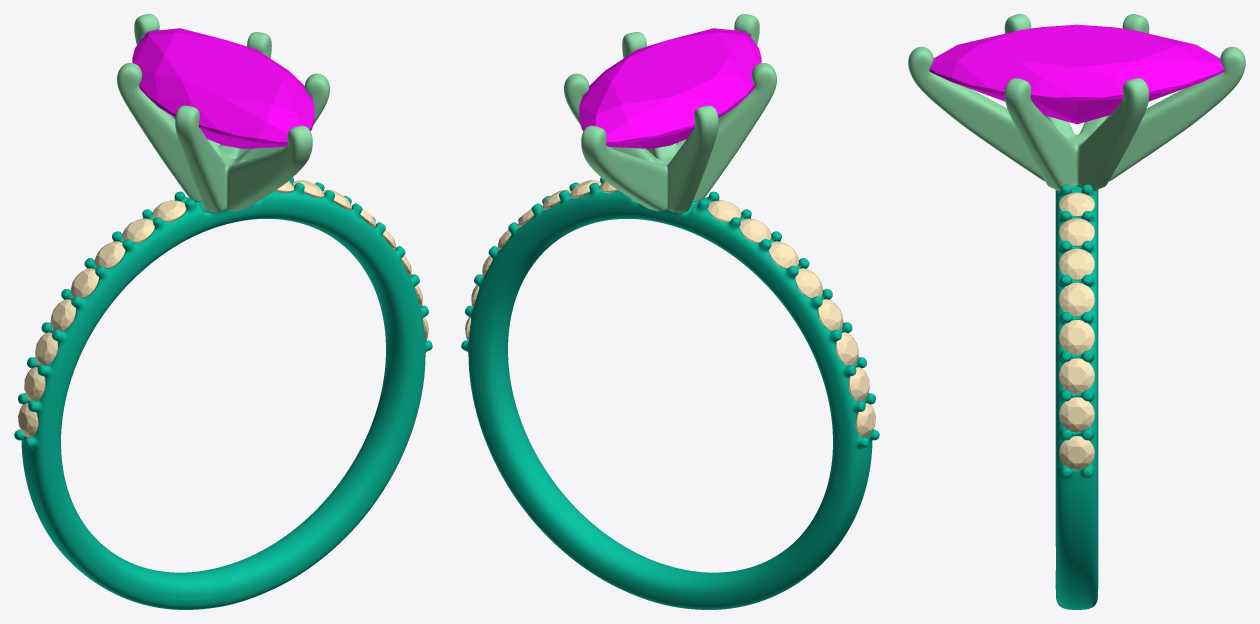
The model's file is BE1PD25R25_MQ_200ct_RENDER.glb.
3 renders of one model, left to right at view 1: azimuth 30°, elevation 25°; view 2: azimuth 150°, elevation 25°; view 3: azimuth 270°, elevation 25°, orthographic.
Parts seen in each view (by area): view 1: Metal 01, CS_Diamond_Marquise, Metal 02, Diamond_Round_Gem_SH.004, Diamond_Round_Gem_SH.003, Diamond_Round_Gem_SH.005, Diamond_Round_Gem_SH.002, Diamond_Round_Gem_SH.006, Diamond_Round_Gem_SH.001; view 2: Metal 01, CS_Diamond_Marquise, Metal 02, Diamond_Round_Gem_SH.004, Diamond_Round_Gem_SH.003, Diamond_Round_Gem_SH.005, Diamond_Round_Gem_SH.002, Diamond_Round_Gem_SH.006, Diamond_Round_Gem_SH.001; view 3: Metal 02, CS_Diamond_Marquise, Metal 01, Diamond_Round_Gem_SH.013, Diamond_Round_Gem_SH.014, Diamond_Round_Gem_SH.012, Diamond_Round_Gem_SH.015, Diamond_Round_Gem_SH.011, Diamond_Round_Gem_SH.010, Diamond_Round_Gem_SH.009, Diamond_Round_Gem_SH.008.
Part boxes in pixels (left/top/right/bottom): Metal 01: left=14, top=177, right=432, bottom=609; CS_Diamond_Marquise: left=132, top=28, right=314, bottom=148; Metal 02: left=117, top=14, right=329, bottom=212; Diamond_Round_Gem_SH.004: left=71, top=268, right=98, bottom=298; Diamond_Round_Gem_SH.003: left=50, top=299, right=75, bottom=331; Diamond_Round_Gem_SH.005: left=95, top=241, right=125, bottom=268; Diamond_Round_Gem_SH.002: left=35, top=332, right=58, bottom=365; Diamond_Round_Gem_SH.006: left=122, top=218, right=154, bottom=242; Diamond_Round_Gem_SH.001: left=24, top=367, right=45, bottom=401; Metal 01: left=461, top=177, right=879, bottom=609; CS_Diamond_Marquise: left=579, top=28, right=761, bottom=148; Metal 02: left=564, top=14, right=776, bottom=212; Diamond_Round_Gem_SH.004: left=795, top=268, right=822, bottom=298; Diamond_Round_Gem_SH.003: left=818, top=299, right=843, bottom=331; Diamond_Round_Gem_SH.005: left=768, top=241, right=798, bottom=268; Diamond_Round_Gem_SH.002: left=835, top=332, right=858, bottom=365; Diamond_Round_Gem_SH.006: left=739, top=218, right=771, bottom=242; Diamond_Round_Gem_SH.001: left=848, top=367, right=869, bottom=401; Metal 02: left=908, top=14, right=1245, bottom=191; CS_Diamond_Marquise: left=929, top=24, right=1224, bottom=124; Metal 01: left=1055, top=184, right=1098, bottom=609; Diamond_Round_Gem_SH.013: left=1059, top=358, right=1094, bottom=393; Diamond_Round_Gem_SH.014: left=1059, top=397, right=1094, bottom=432; Diamond_Round_Gem_SH.012: left=1059, top=320, right=1094, bottom=354; Diamond_Round_Gem_SH.015: left=1059, top=436, right=1094, bottom=469; Diamond_Round_Gem_SH.011: left=1059, top=282, right=1094, bottom=316; Diamond_Round_Gem_SH.010: left=1059, top=248, right=1094, bottom=279; Diamond_Round_Gem_SH.009: left=1059, top=218, right=1094, bottom=246; Diamond_Round_Gem_SH.008: left=1059, top=192, right=1094, bottom=216.
Bounding box in the file's own units: 20.13 × 25.28 × 14.24.
